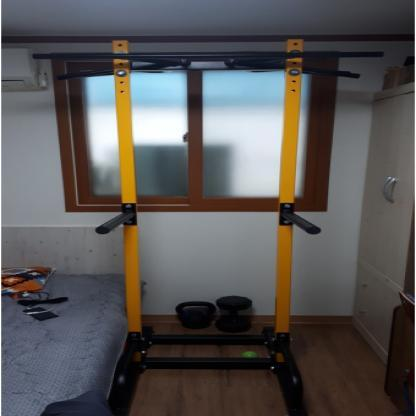chinning dipping: (37, 36, 386, 416)
